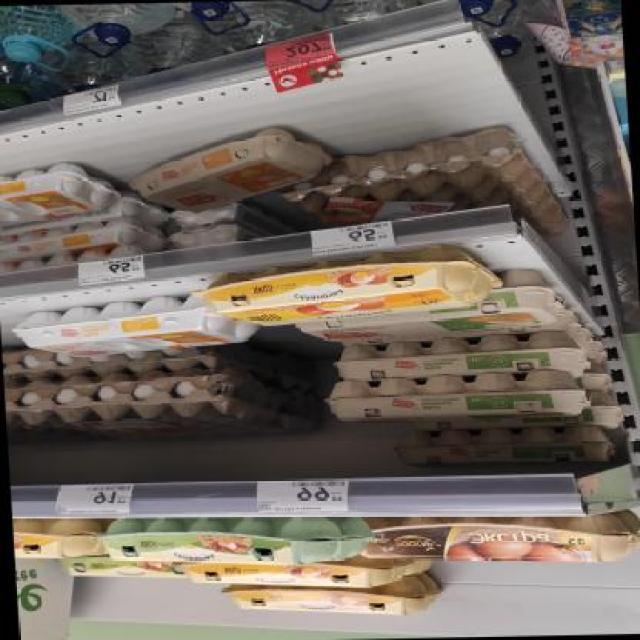egg: (189, 246, 503, 332), (122, 126, 338, 211), (368, 511, 640, 566), (101, 514, 374, 568), (9, 300, 252, 358), (327, 371, 588, 424), (330, 331, 590, 384), (390, 426, 620, 470), (12, 517, 103, 558)
